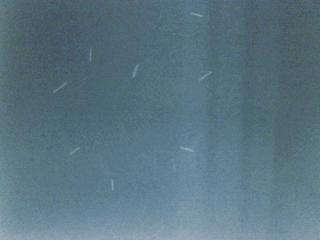scratch: (192, 63, 218, 88), (174, 138, 201, 162), (46, 77, 74, 99), (125, 60, 145, 82), (186, 5, 209, 24), (105, 173, 122, 196), (84, 43, 99, 67), (66, 142, 84, 159)
